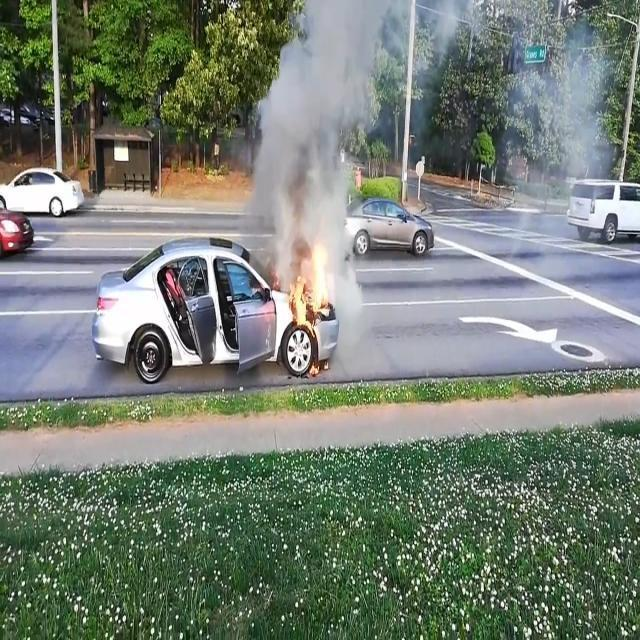fire: (270, 221, 340, 381)
